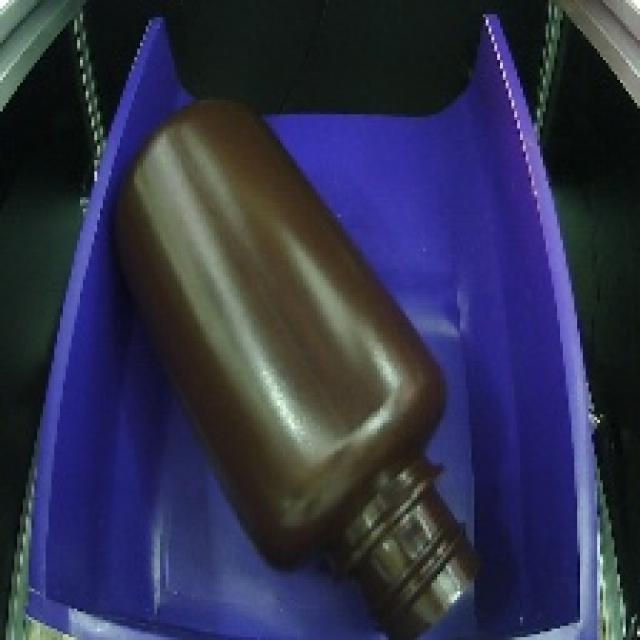plastic: (89, 71, 488, 640)
